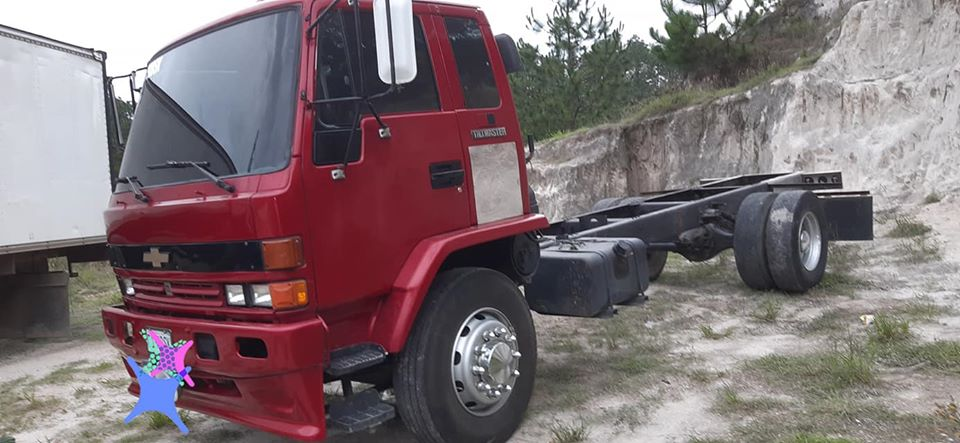camion: (101, 8, 878, 442)
